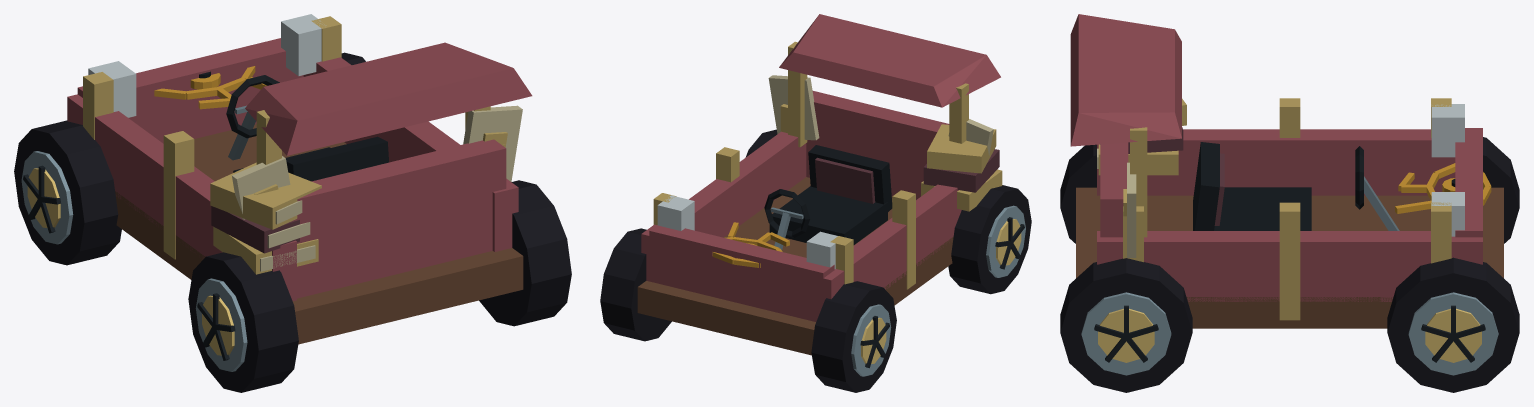
The model's file is kart.glb.
3 views of the same model, side by side, from view 1: azimuth 30°, elevation 25°; view 2: azimuth 150°, elevation 25°; view 3: azimuth 270°, elevation 25° (orthographic). The views are drawn at different scales.
Visible parts, largest first — view 1: identity-carriage-carriage-timber-coach, wheel-rear-left, wheel-front-left, identity-carriage-motif-books, wheel-rear-right, identity-carriage-driver-cockpit, identity-carriage-motif-cards, identity-carriage-motif-eye-sigil; view 2: identity-carriage-carriage-timber-coach, identity-carriage-driver-cockpit, wheel-front-left, wheel-rear-left, wheel-front-right, identity-carriage-motif-books, identity-carriage-motif-cards, identity-carriage-motif-eye-sigil; view 3: identity-carriage-carriage-timber-coach, wheel-rear-right, wheel-front-right, identity-carriage-driver-cockpit, wheel-rear-left, wheel-front-left, identity-carriage-motif-books, identity-carriage-motif-eye-sigil, identity-carriage-motif-cards.
Boxes of the visible parts, left/top/right/bottom form: identity-carriage-carriage-timber-coach: left=67, top=14, right=532, bottom=344; wheel-rear-left: left=188, top=252, right=298, bottom=392; wheel-front-left: left=14, top=120, right=121, bottom=265; identity-carriage-motif-books: left=210, top=162, right=321, bottom=274; wheel-rear-right: left=479, top=180, right=571, bottom=326; identity-carriage-driver-cockpit: left=226, top=75, right=388, bottom=181; identity-carriage-motif-cards: left=232, top=105, right=522, bottom=219; identity-carriage-motif-eye-sigil: left=154, top=66, right=266, bottom=109; identity-carriage-carriage-timber-coach: left=637, top=14, right=1000, bottom=355; identity-carriage-driver-cockpit: left=764, top=145, right=892, bottom=250; wheel-front-left: left=811, top=281, right=896, bottom=392; wheel-rear-left: left=948, top=185, right=1031, bottom=294; wheel-front-right: left=600, top=228, right=671, bottom=341; identity-carriage-motif-books: left=921, top=124, right=1002, bottom=211; identity-carriage-motif-cards: left=768, top=75, right=993, bottom=155; identity-carriage-motif-eye-sigil: left=712, top=222, right=789, bottom=267; identity-carriage-carriage-timber-coach: left=1070, top=14, right=1503, bottom=328; wheel-rear-right: left=1060, top=258, right=1192, bottom=392; wheel-front-right: left=1387, top=257, right=1519, bottom=392; identity-carriage-driver-cockpit: left=1193, top=142, right=1399, bottom=230; wheel-rear-left: left=1060, top=144, right=1096, bottom=243; wheel-front-left: left=1483, top=137, right=1519, bottom=243; identity-carriage-motif-books: left=1097, top=98, right=1186, bottom=175; identity-carriage-motif-eye-sigil: left=1395, top=163, right=1491, bottom=213; identity-carriage-motif-cards: left=1123, top=162, right=1136, bottom=257.
Size of the model in its own units: 2.07 by 1.63 by 2.64.
